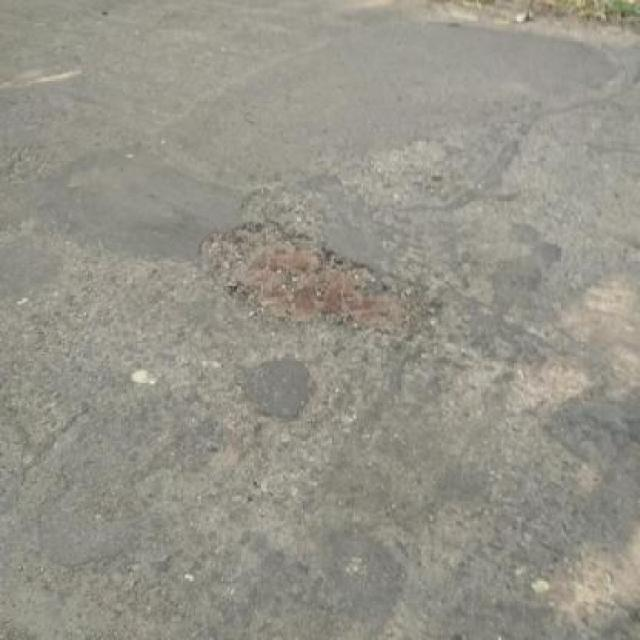Pothole: (196, 219, 426, 343)
